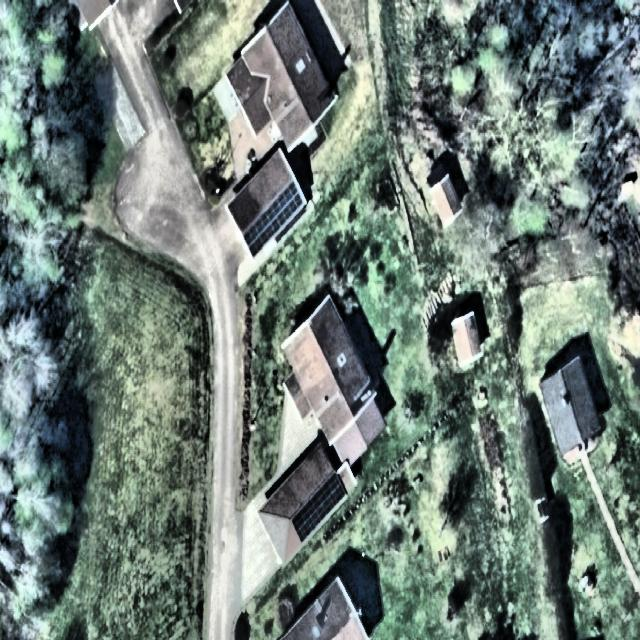roof_pv: (243, 178, 306, 261), (293, 467, 349, 544)
